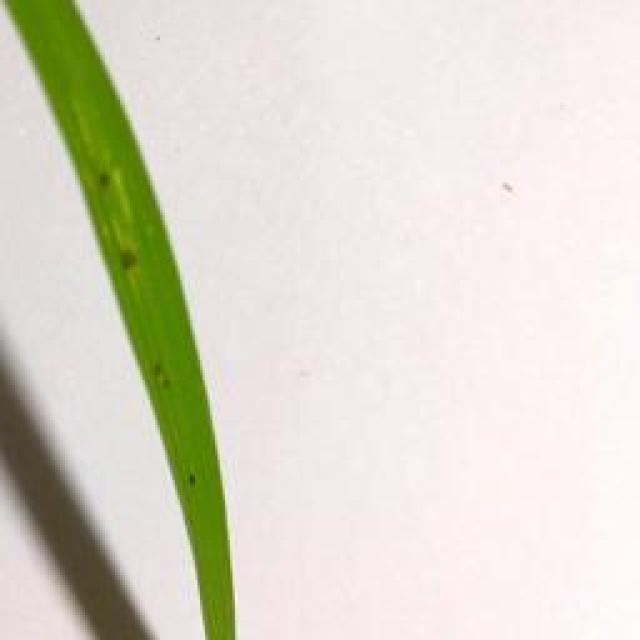Brown_Spot: (104, 235, 158, 291), (76, 161, 134, 210), (140, 357, 180, 409), (179, 456, 204, 502)
